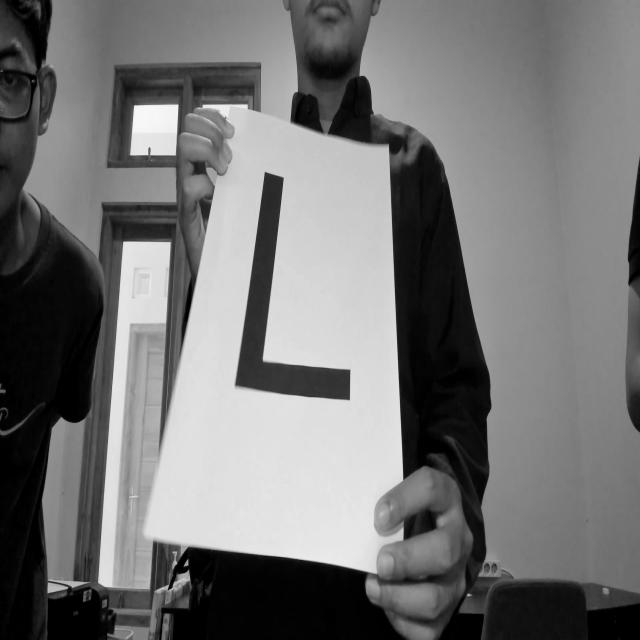l: (223, 156, 361, 450)
